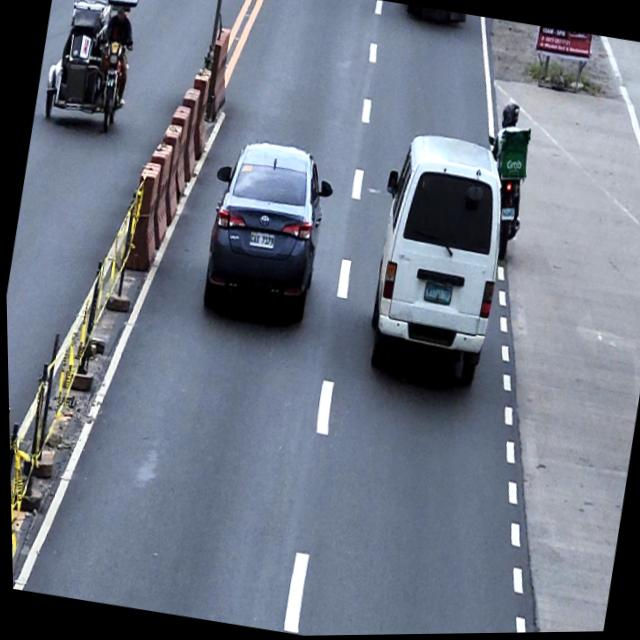Car: (353, 127, 519, 389), (191, 133, 340, 328)
License-Plate: (420, 280, 453, 308), (247, 229, 275, 252), (498, 206, 514, 223)
Motorcycle: (465, 134, 535, 269)
Tricycle: (37, 0, 147, 136)
